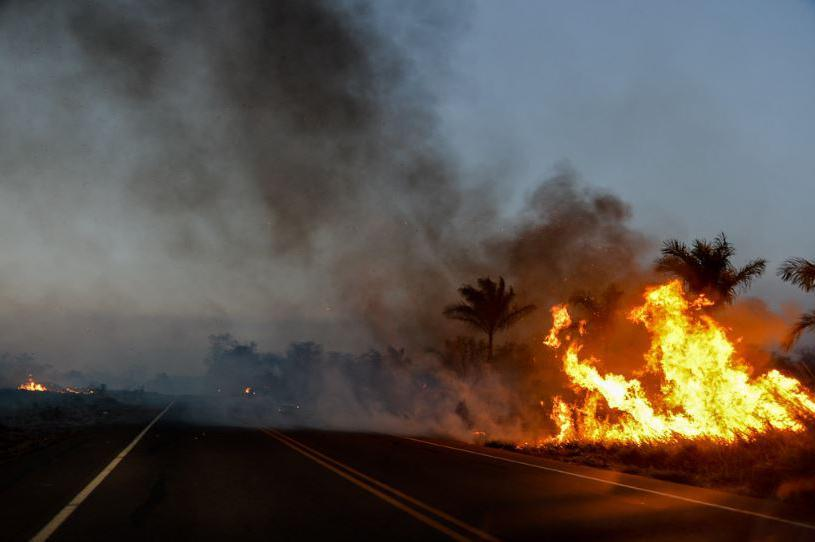Fire: (527, 287, 814, 450), (18, 377, 50, 392)
